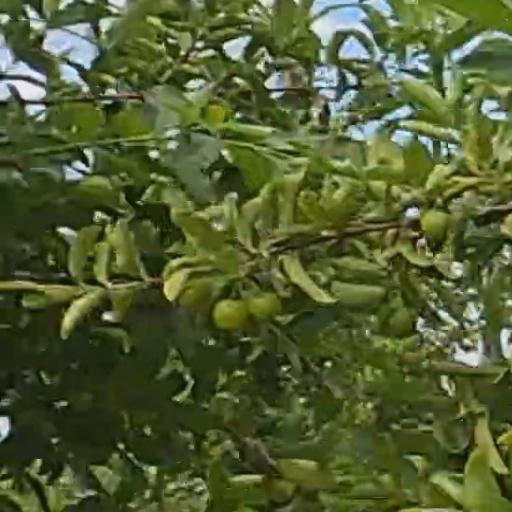acerola_verde: (213, 300, 246, 329), (250, 295, 282, 321)
